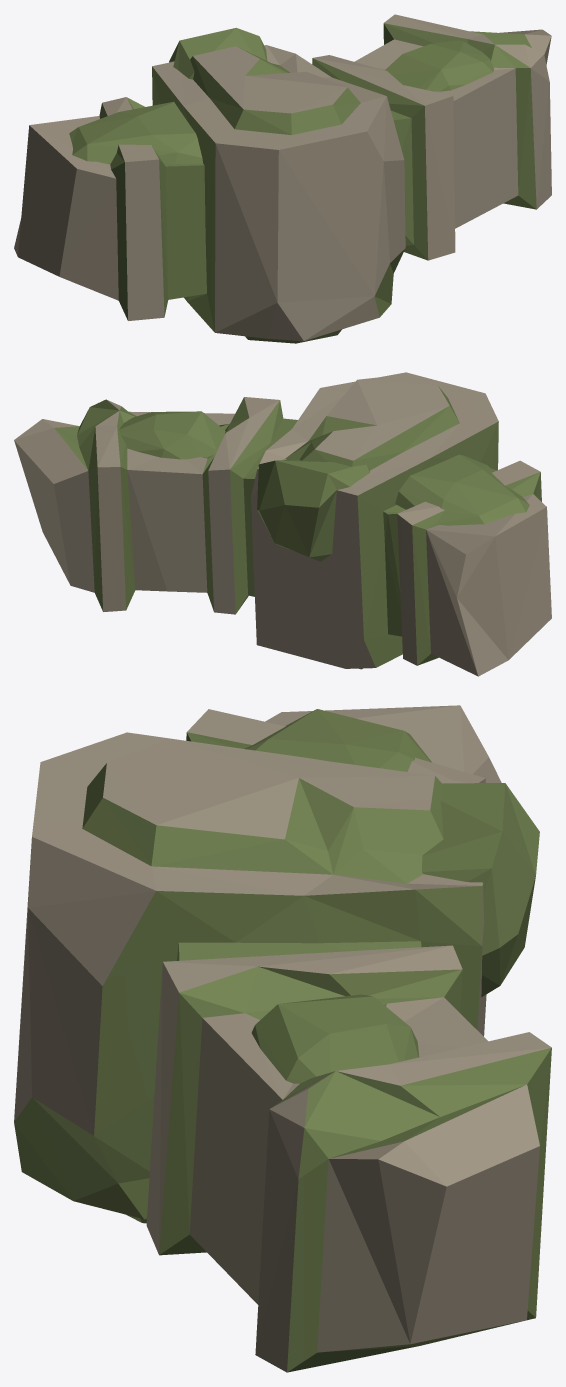
File: SM_Prop_Pillar_Arch_Broken_Moss_02.glb
The picture shows the model from 3 angles, top to bottom: view 1: azimuth 30°, elevation 25°; view 2: azimuth 150°, elevation 25°; view 3: azimuth 270°, elevation 25°; orthographic projection. The views are drawn at different scales.
Parts seen in each view (by area): view 1: SM_Prop_Pillar_Arch_Broken_Moss_02; view 2: SM_Prop_Pillar_Arch_Broken_Moss_02; view 3: SM_Prop_Pillar_Arch_Broken_Moss_02.
Boxes of the visible parts, x1=… form: SM_Prop_Pillar_Arch_Broken_Moss_02: x1=14, y1=14, x2=551, y2=343; SM_Prop_Pillar_Arch_Broken_Moss_02: x1=14, y1=372, x2=551, y2=676; SM_Prop_Pillar_Arch_Broken_Moss_02: x1=14, y1=705, x2=551, y2=1372.
Bounding box in the file's own units: 1.41 × 0.6014 × 0.7139.
Materials: 1 (1 with a texture image).
